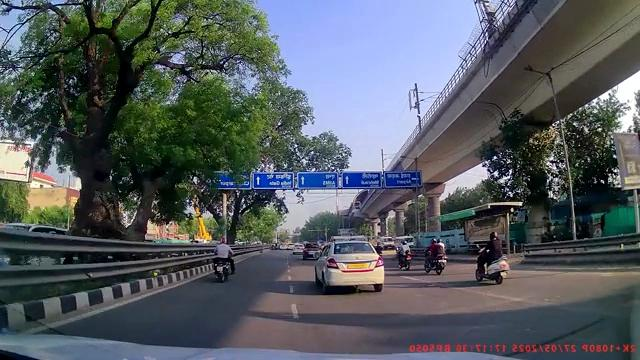motorcycle_with_helmet: (473, 230, 509, 286), (212, 235, 236, 283), (424, 237, 447, 276)
